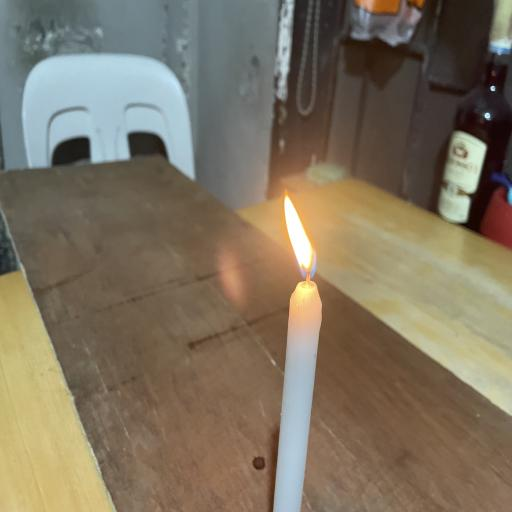fire: (296, 179, 512, 414)
